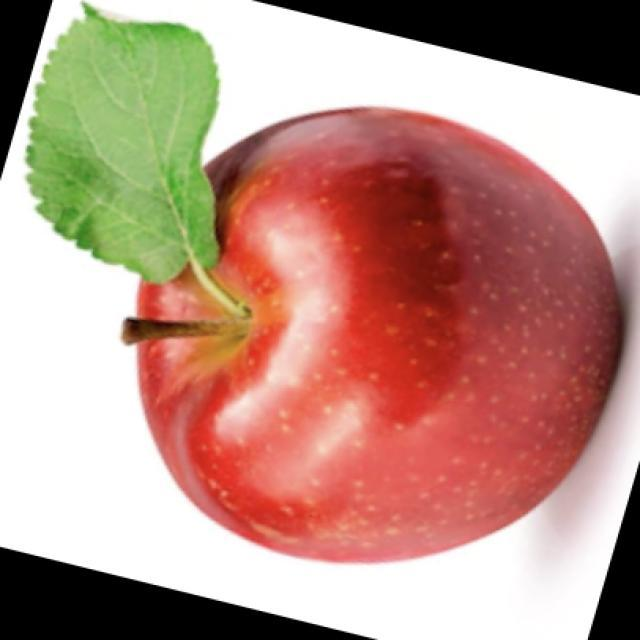Fresh Apple: (138, 117, 615, 563)
